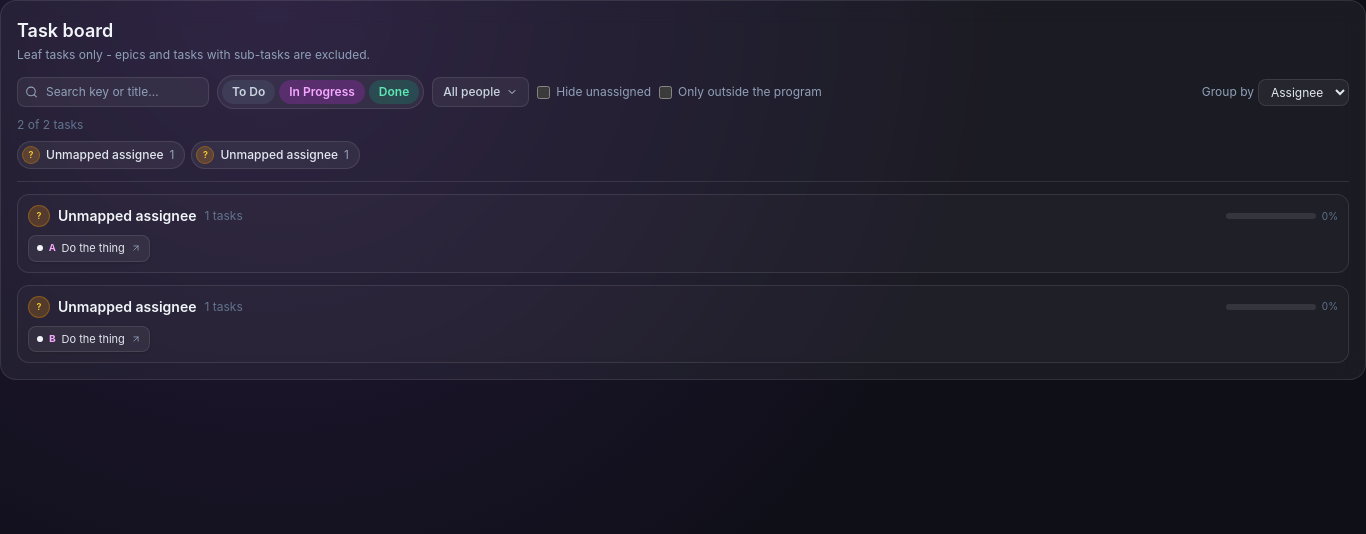
AtlasTaskBoard › filters lanes to one person's tickets on pill click while keeping every pill visible, then clears on a second click
Expected: the text "A" is shown, [49,240,56,256]
Select "Assignee" in the dropdown named "Group tasks by". click: (1304, 92)
box: [1258,78,1349,106]
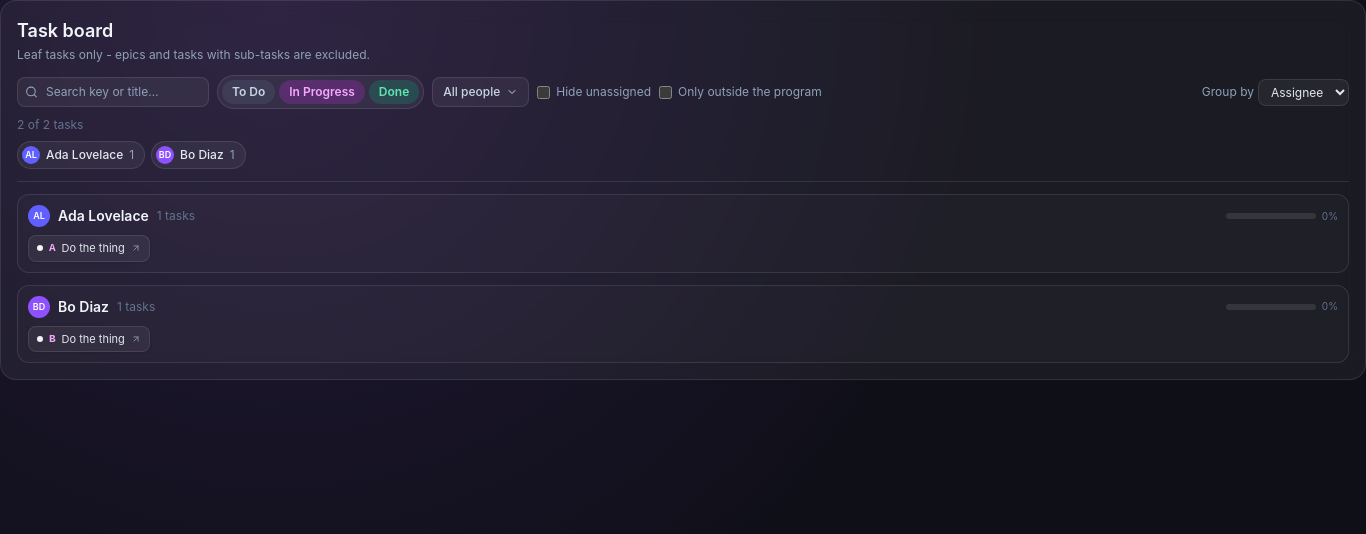
Result: the button titled "Show only Ada Lovelace's tickets" is shown
Click the button titled "Show only Ada Lovelace's tickets". click: (81, 155)
box: [17,141,145,169]
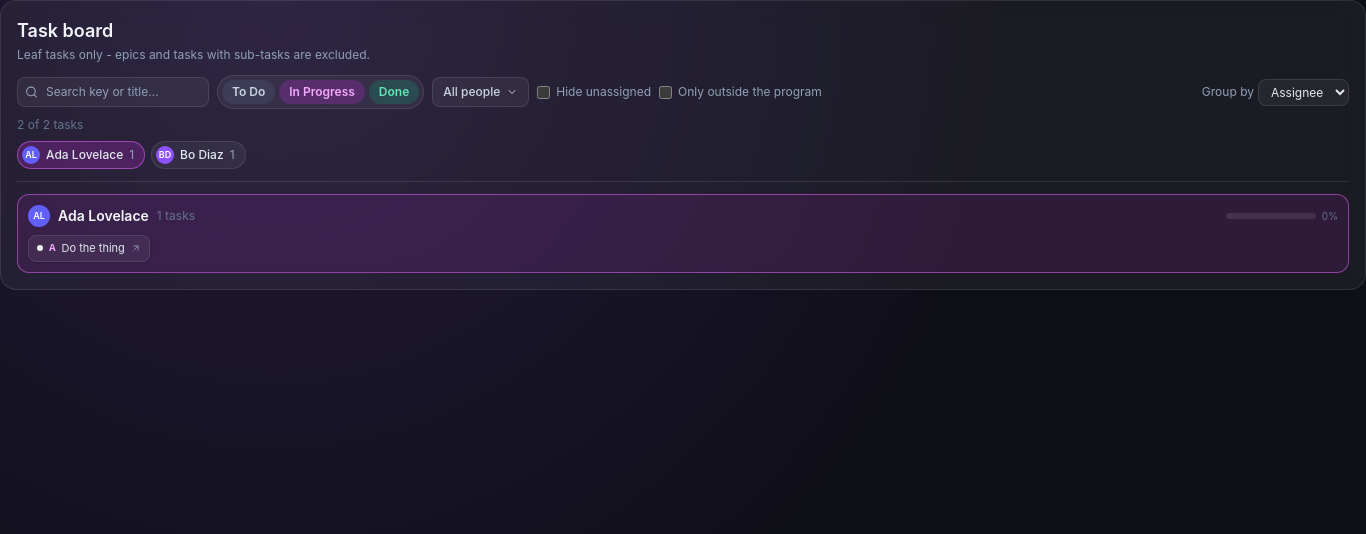
Expected: the text "A" is shown, [49,240,56,256]
Result: the button titled "Show only Bo Diaz's tickets" is shown at [151,141,246,169]
Result: the button titled "Showing only Ada Lovelace - click to clear" is shown
Click the button titled "Showing only Ada Lovelace - click to clear". click: (81, 155)
box: [17,141,145,169]
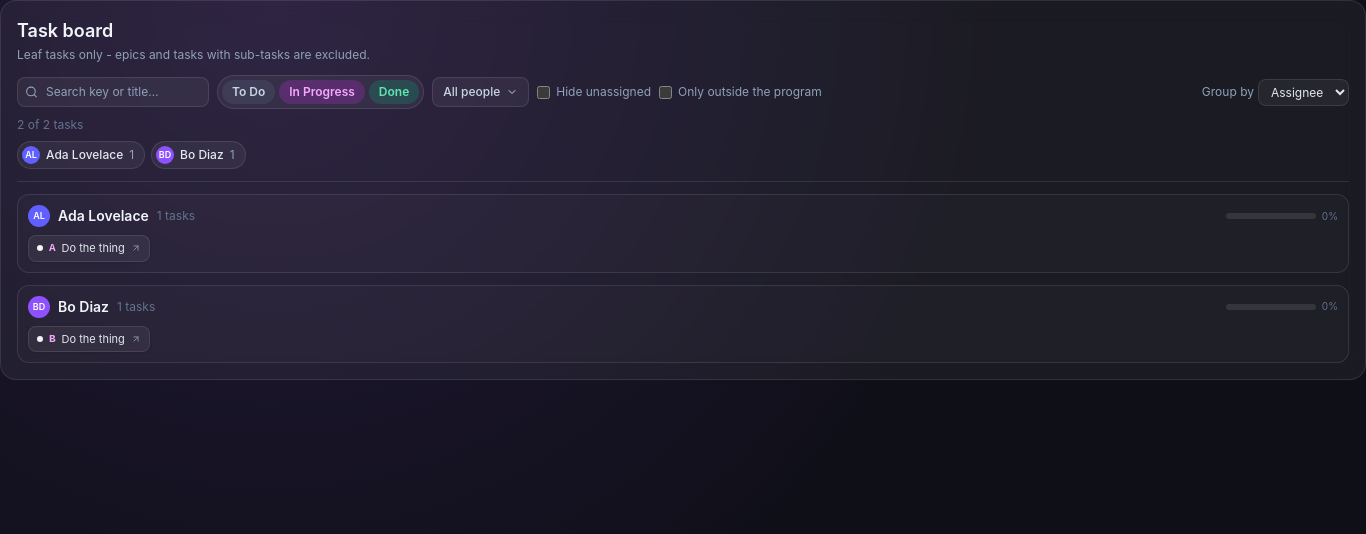
Expected: the text "A" is shown, [49,240,56,256]
Result: the button titled "Show only Ada Lovelace's tickets" is shown at [17,141,145,169]
Result: the text "B" is shown at [49,330,56,347]
